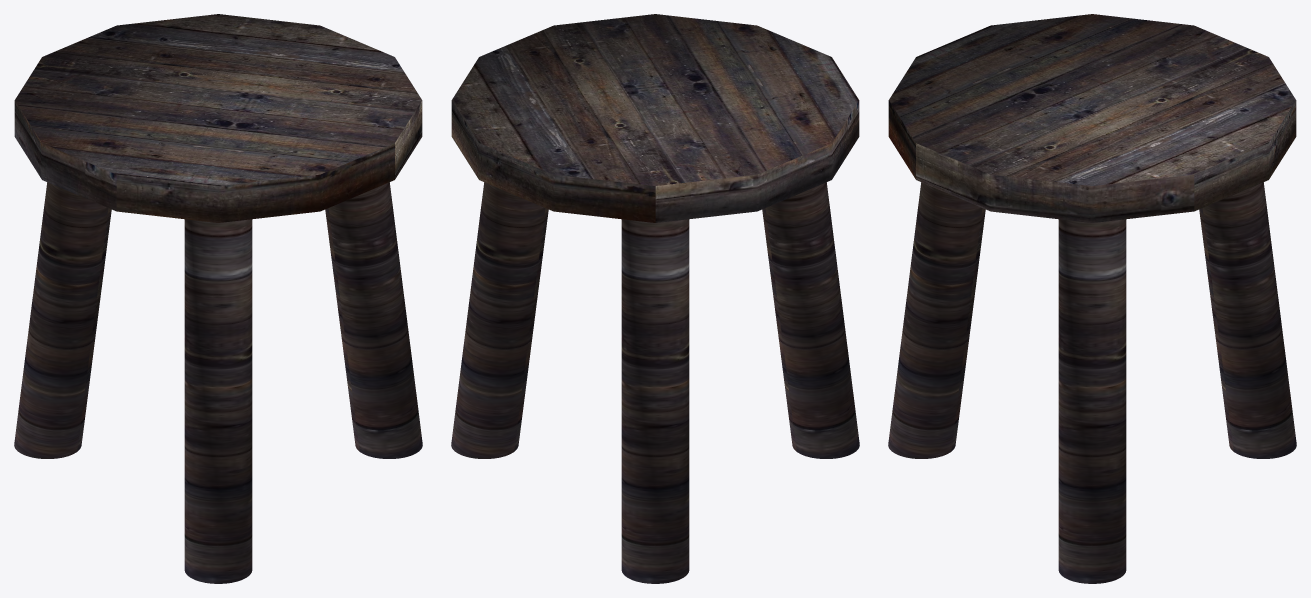
File: Stool_Wood.glb
3 renders of one model, left to right at view 1: azimuth 30°, elevation 25°; view 2: azimuth 150°, elevation 25°; view 3: azimuth 270°, elevation 25°, orthographic.
Parts seen in each view (by area): view 1: Stool; view 2: Stool; view 3: Stool.
Boxes of the visible parts, x1,y1,x2,y2 form: Stool: (14, 14, 422, 583); Stool: (451, 14, 859, 583); Stool: (888, 14, 1296, 583).
Bounding box in the file's own units: 0.4585 × 0.45 × 0.4314.
Materials: 1 (1 with a texture image).
